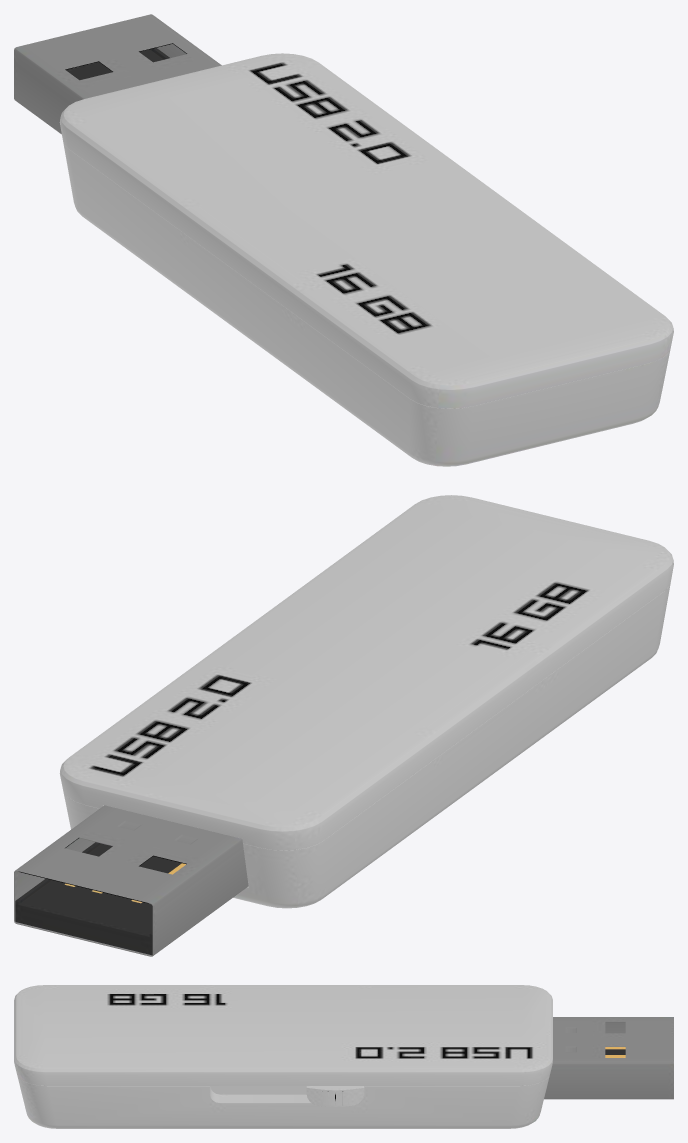
The model's file is obj-usb.glb.
3 views of the same model, one above another, from view 1: azimuth 30°, elevation 25°; view 2: azimuth 150°, elevation 25°; view 3: azimuth 270°, elevation 25° (orthographic). The views are drawn at different scales.
Visible parts, largest first — view 1: Cube001; view 2: Cube001; view 3: Cube001.
Part boxes in pixels (x1=…): Cube001: x1=14, y1=14, x2=673, y2=466; Cube001: x1=14, y1=495, x2=673, y2=956; Cube001: x1=14, y1=985, x2=673, y2=1128.
Bounding box in the file's own units: 1.12 × 0.3757 × 3.5.
1 material, 1 textured.
